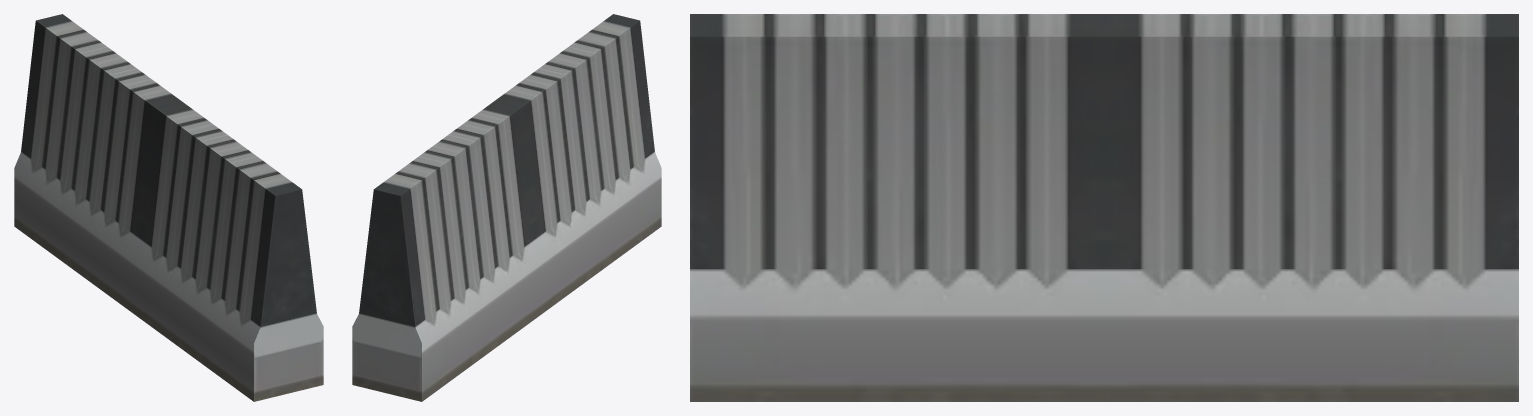
Rendered from Part - Fence 02-rLCsBPE2.glb.
3 views of the same model, side by side, from view 1: azimuth 30°, elevation 25°; view 2: azimuth 150°, elevation 25°; view 3: azimuth 270°, elevation 25° (orthographic). The views are drawn at different scales.
Parts seen in each view (by area): view 1: Fence_02; view 2: Fence_02; view 3: Fence_02.
Boxes of the visible parts, left/top/right/bottom form: Fence_02: left=14, top=14, right=323, bottom=401; Fence_02: left=352, top=14, right=661, bottom=401; Fence_02: left=690, top=14, right=1518, bottom=401.
Bounding box in the file's own units: 0.2766 × 0.7628 × 1.65.
Materials: 1 (1 with a texture image).
